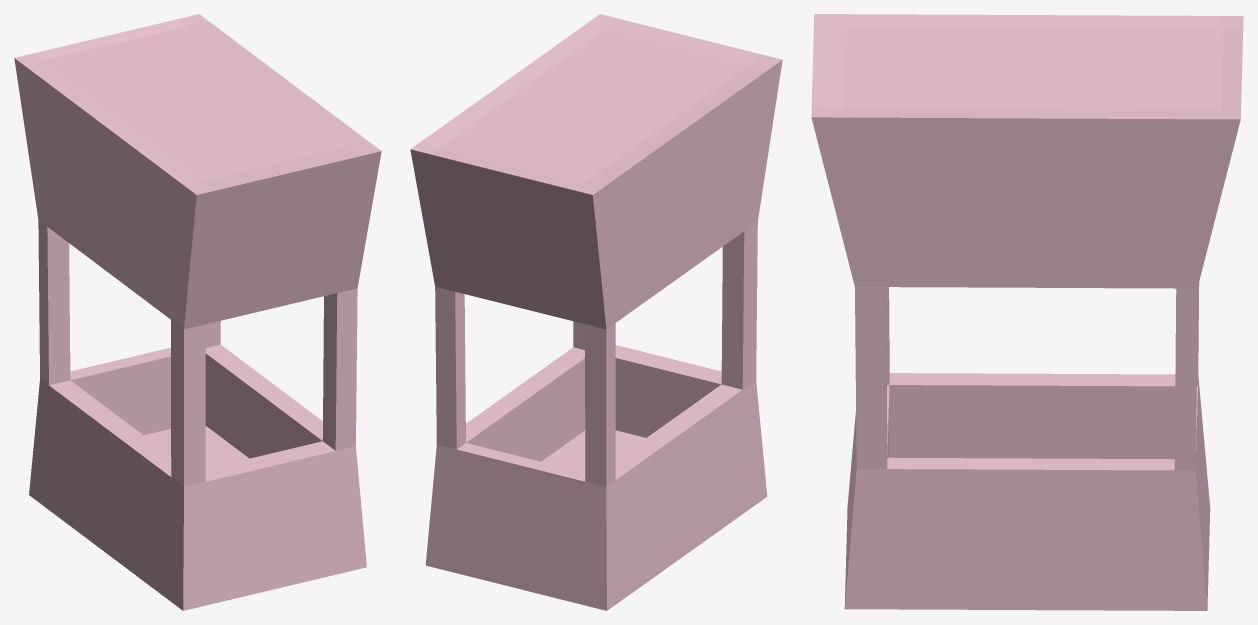
File: stall1 (1).fbx
The picture shows the model from 3 angles, left to right: view 1: azimuth 30°, elevation 25°; view 2: azimuth 150°, elevation 25°; view 3: azimuth 270°, elevation 25°; orthographic projection. The views are drawn at different scales.
Parts seen in each view (by area): view 1: stand2; view 2: stand2; view 3: stand2.
Part boxes in pixels (x1,y1,x2,y2): stand2: [14, 14, 381, 610]; stand2: [410, 14, 782, 610]; stand2: [811, 14, 1243, 610].
Size of the model in its own units: 7.81 by 16.99 by 13.53.
